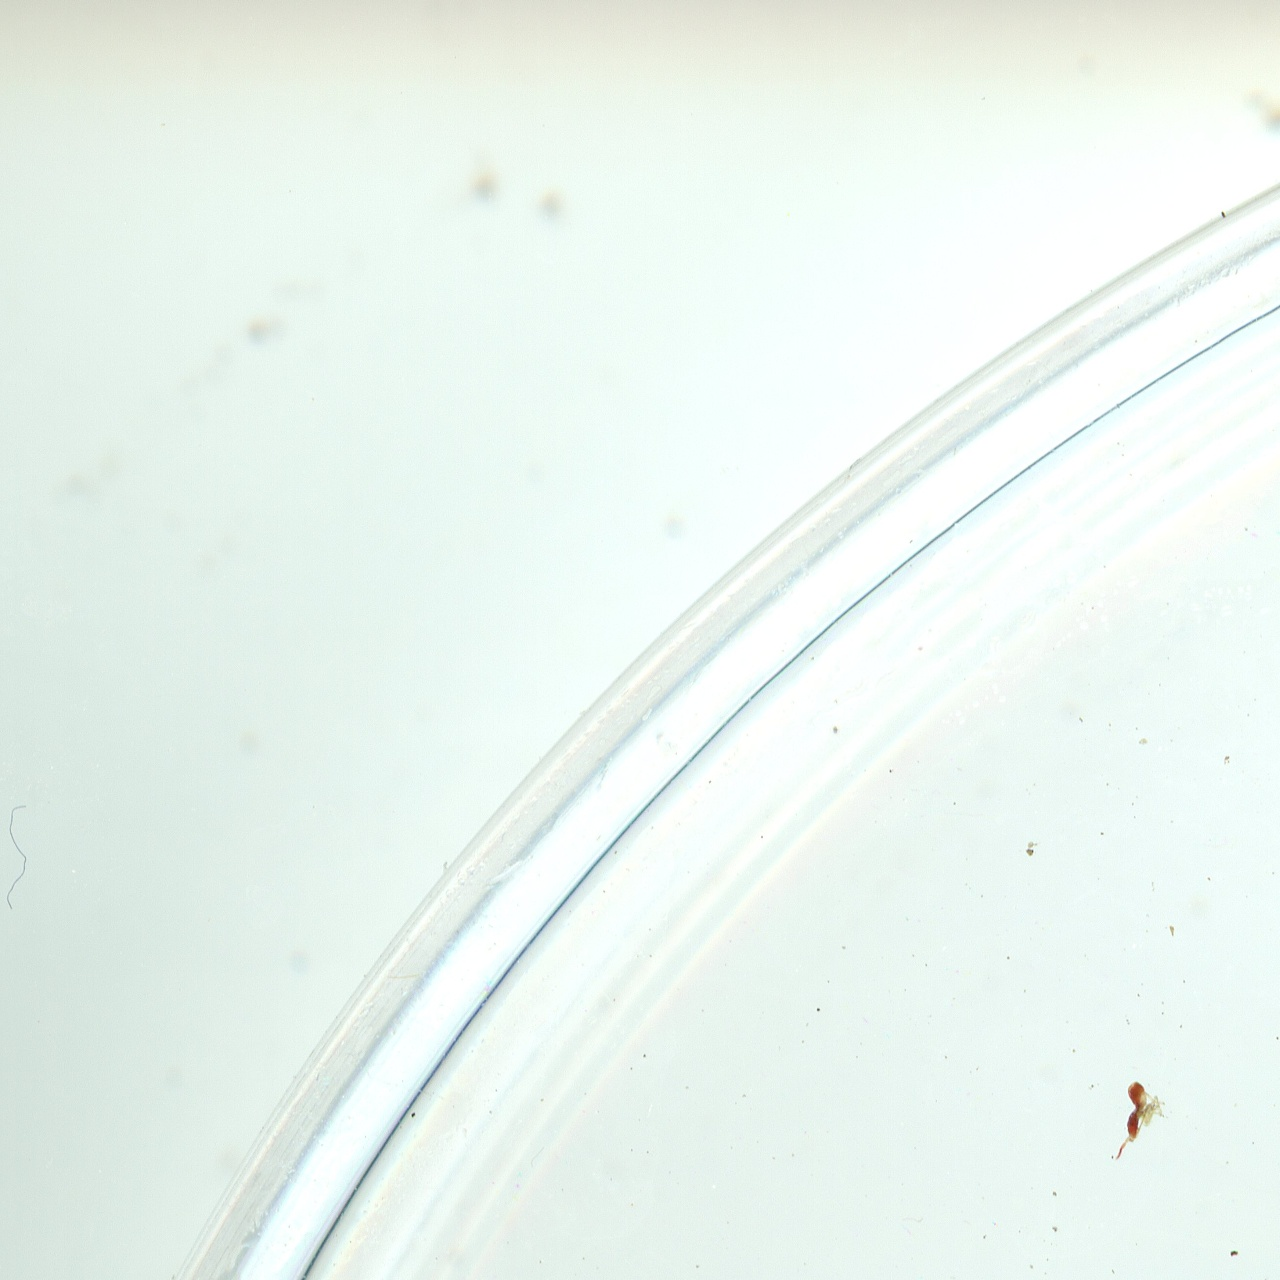arthropod: (1114, 1078, 1167, 1163)
